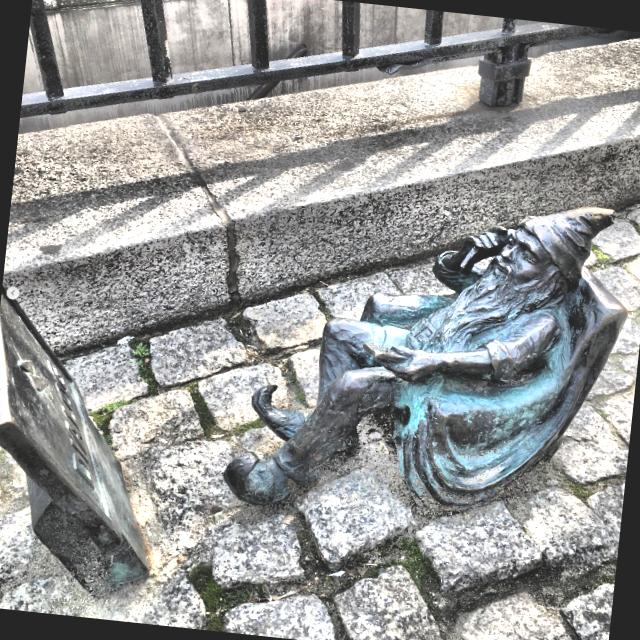Dialogomir: (222, 208, 629, 509), (0, 288, 152, 600)
